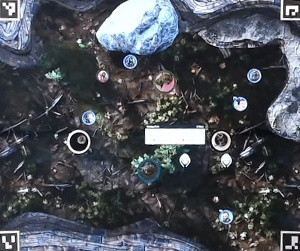black: (67, 130, 90, 153)
brown_turquoise: (138, 160, 161, 183)
pink_green: (153, 68, 176, 91)
white: (211, 131, 234, 154)
